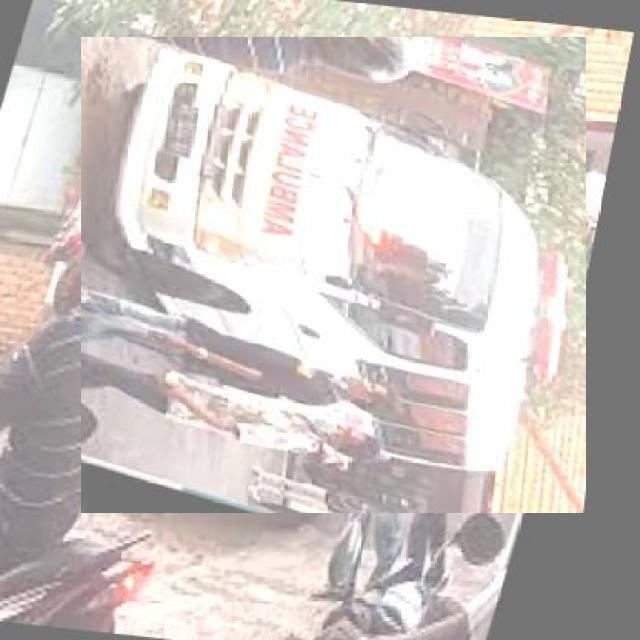emergency-vehicle: (87, 30, 578, 521)
